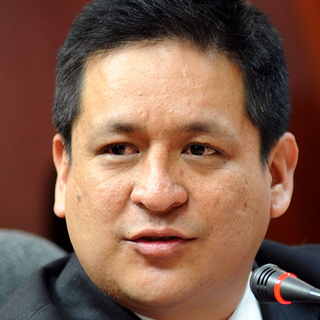eye: (173, 135, 227, 164), (87, 138, 143, 165)
